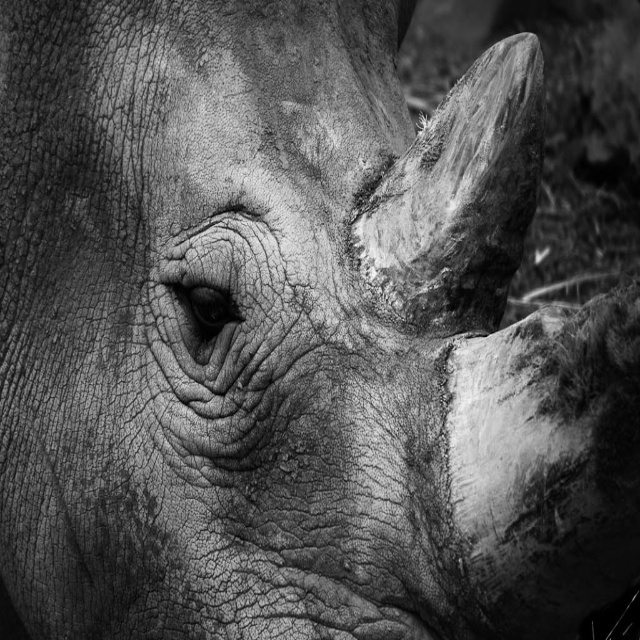Rhinoceros: (1, 0, 639, 639)
